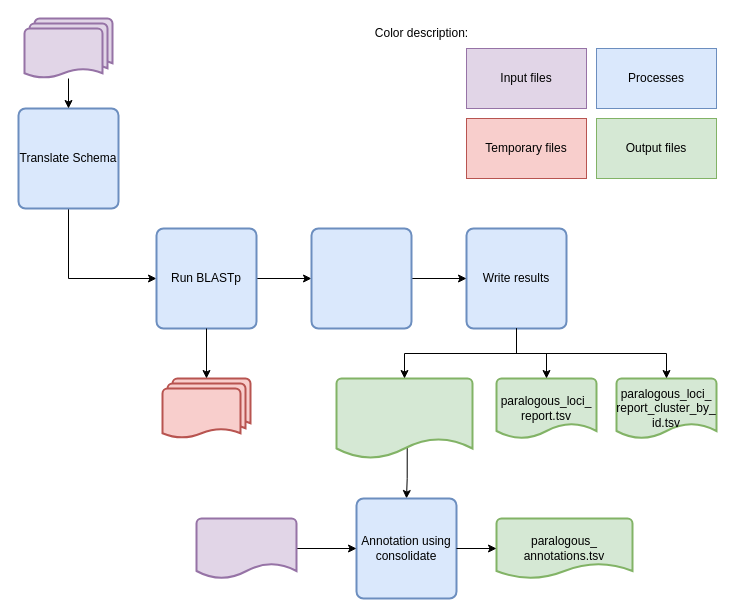
This 734x616 diagram has some shape labels left out. Here are the shapes that lost their labels. From the top down, the centre of each, then its label:
At point (68, 48): "Schema".
At point (361, 278): "Filter results on BSR and coordinates".
At point (206, 408): "Blast_output".
At point (404, 418): "paralogous_ loci_final_ recommendations .tsv".
At point (246, 548): "Annotation file".
